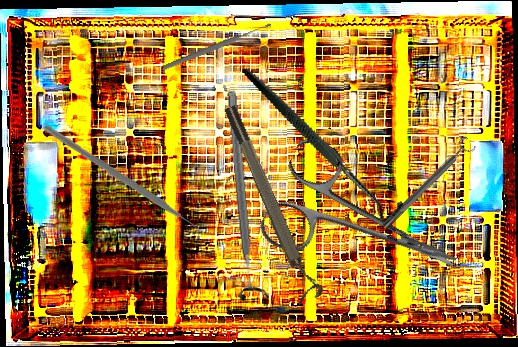Chopper: (40, 124, 206, 247)
Fixation Ring: (220, 100, 326, 305), (216, 88, 270, 304), (377, 134, 478, 233)
Hook Surgical: (242, 36, 406, 246)
Iris Scissors: (255, 133, 477, 318)
Surgical Spoon: (161, 21, 273, 72)
